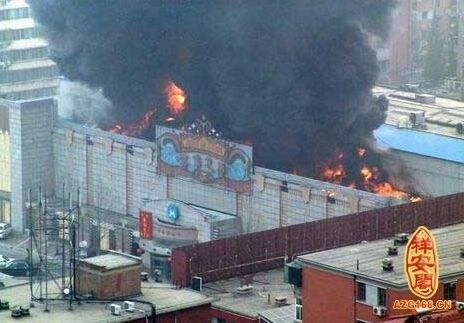fire: (322, 151, 420, 201), (164, 81, 187, 112)
